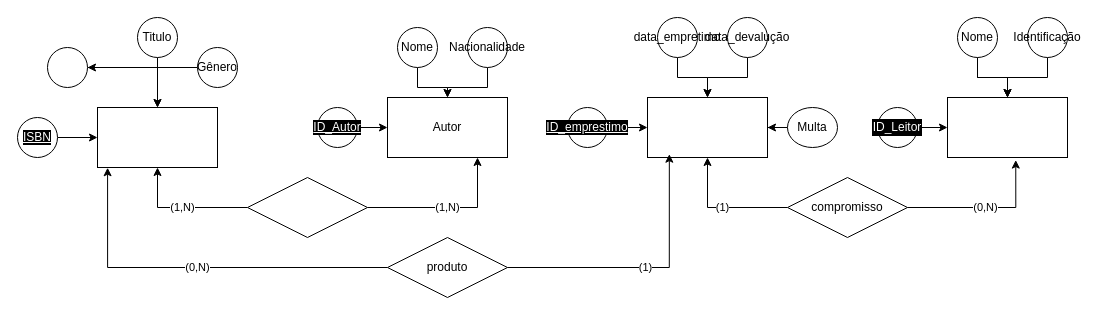
The diagram is 1098 pixels wide and 315 high, and some of its shapes have lost their labels. The shapes that lost their labels are listed below. From the top down, each one's centre as x and y in pixels, then its label:
At point (67, 67): "Ano_publicação".
At point (157, 137): "Livro".
At point (707, 127): "Empréstimo".
At point (1007, 127): "Leitor".
At point (307, 207): "vinculo".
